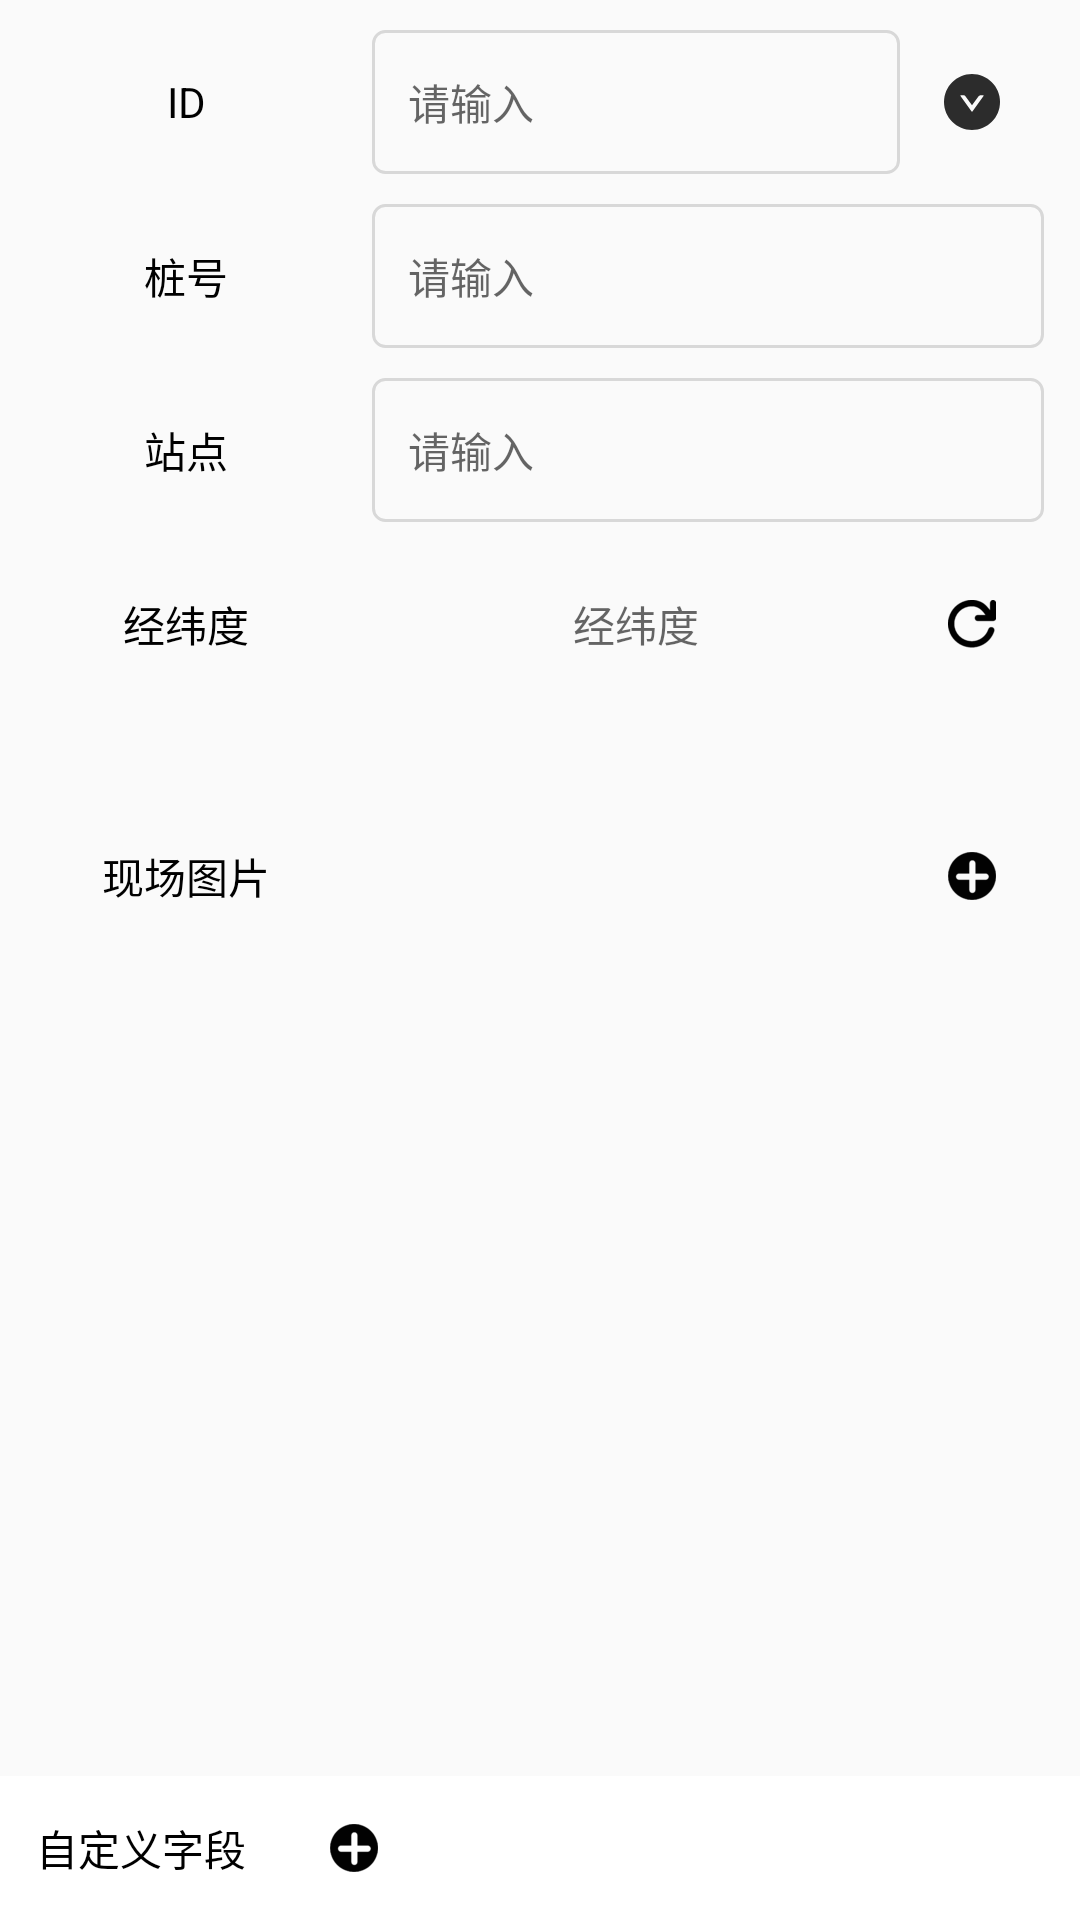

Icon click points for this 1080px×1920px phone screenshot, format (x,y):
activity main add: (972,876), (354,1848)
activity main refresh: (972,624)
arrow down: (972,102)
